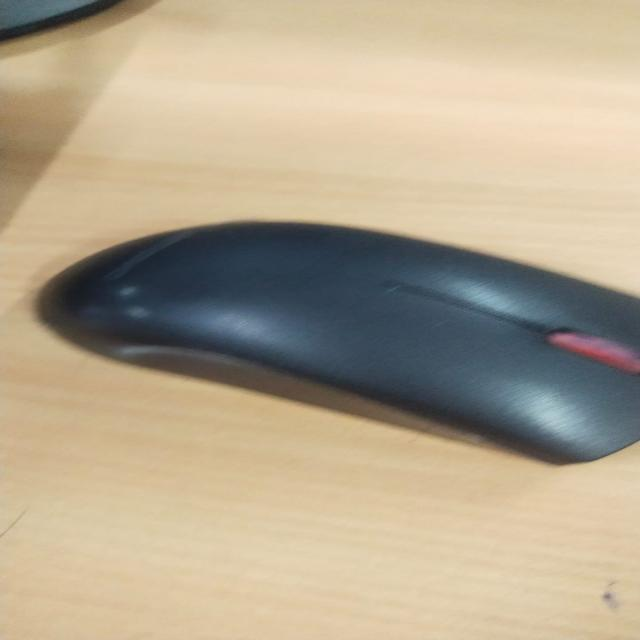mouse: (7, 206, 640, 487)
